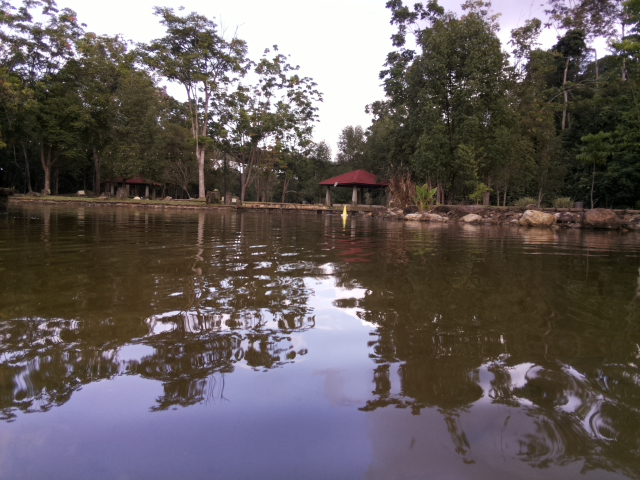checkpoint: (338, 205, 351, 218)
